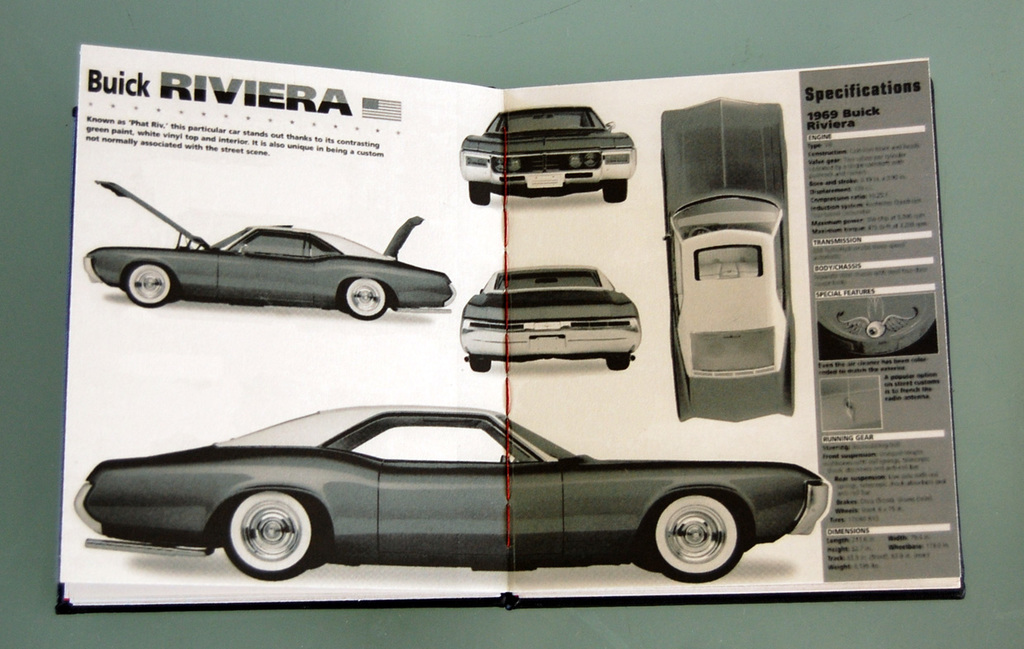Car: (73, 405, 827, 583), (78, 181, 456, 322), (658, 91, 794, 421), (457, 260, 639, 371), (457, 103, 635, 203)
